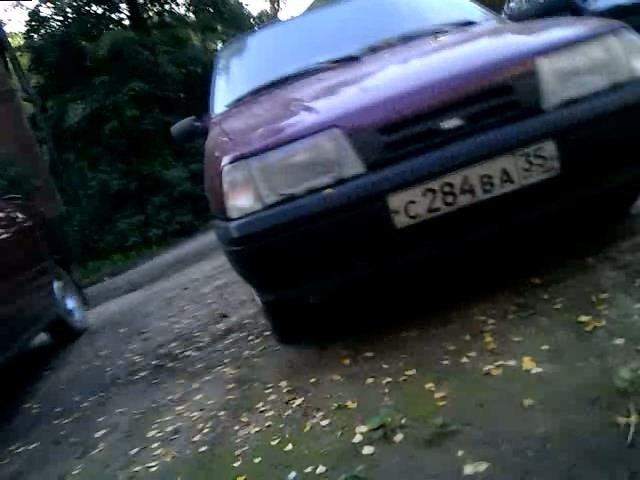car license plate: (384, 135, 564, 235)
